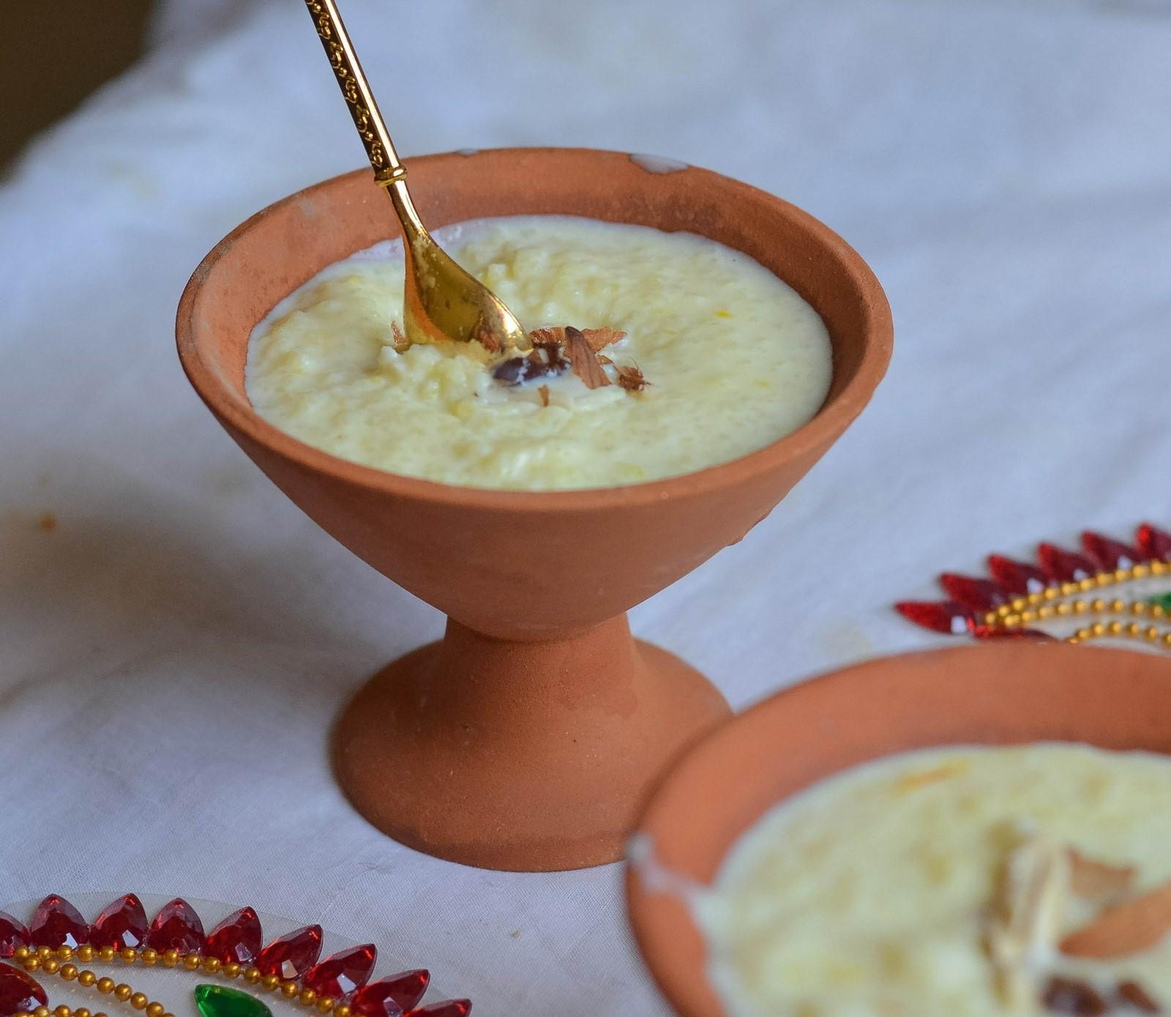Kheer: (250, 217, 837, 490), (708, 745, 1171, 1017)
